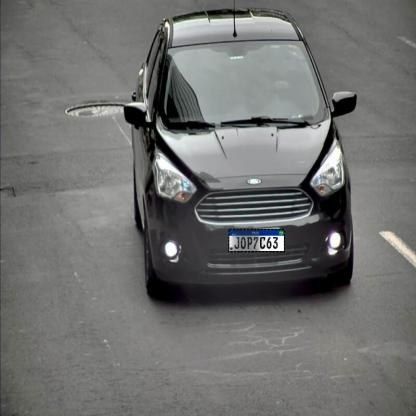PlacaM: (228, 229, 285, 252)
